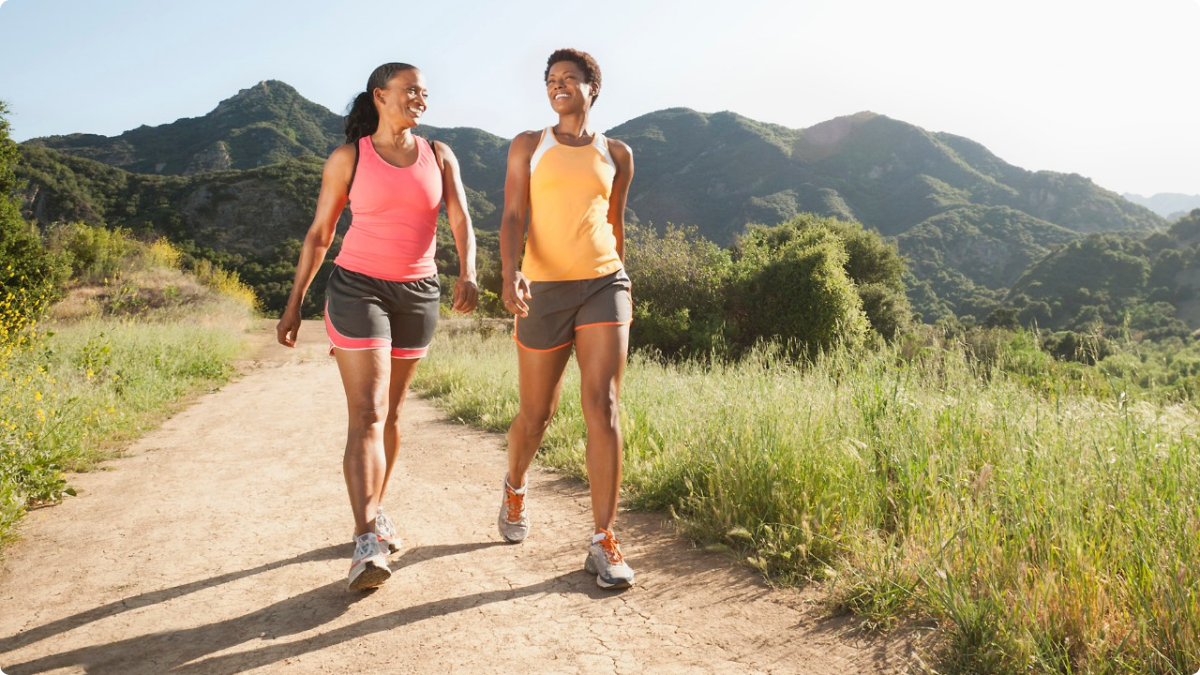feet: (489, 504, 641, 587), (331, 499, 417, 600)
